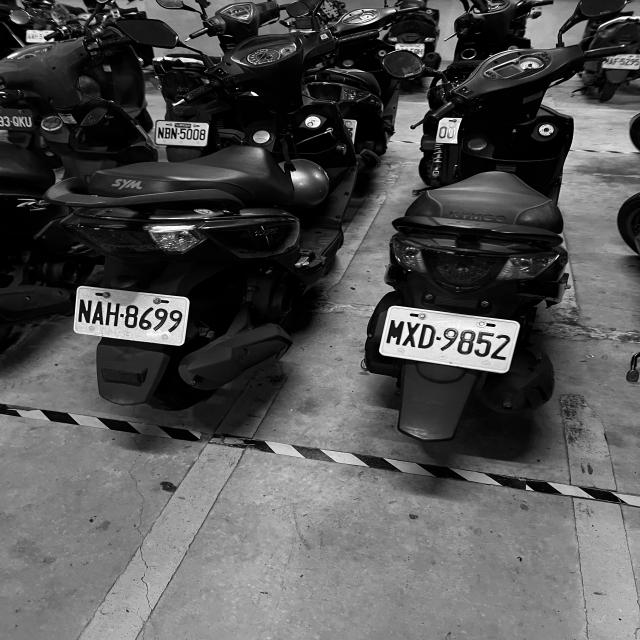-: (436, 336, 442, 342), (120, 313, 124, 318), (178, 132, 180, 135)
0: (186, 128, 192, 140), (193, 129, 199, 140)
2: (489, 332, 513, 362)
3: (4, 116, 11, 127)
5: (472, 330, 495, 358), (180, 128, 186, 140)
6: (139, 305, 153, 331)
8: (455, 329, 477, 356), (124, 304, 138, 329), (199, 129, 206, 140)
9: (439, 328, 460, 353), (154, 306, 168, 331), (169, 308, 182, 334)
A: (92, 300, 104, 326)
B: (164, 126, 170, 139)
D: (417, 322, 438, 350)
H: (106, 301, 120, 327)
K: (18, 116, 25, 128)
M: (385, 319, 406, 346)
N: (78, 297, 92, 323), (171, 127, 177, 139), (158, 127, 164, 138)
Q: (12, 116, 19, 128)
U: (24, 116, 32, 128)
X: (401, 321, 422, 348)
plate: (379, 307, 518, 372), (73, 287, 188, 344), (157, 121, 206, 145)
